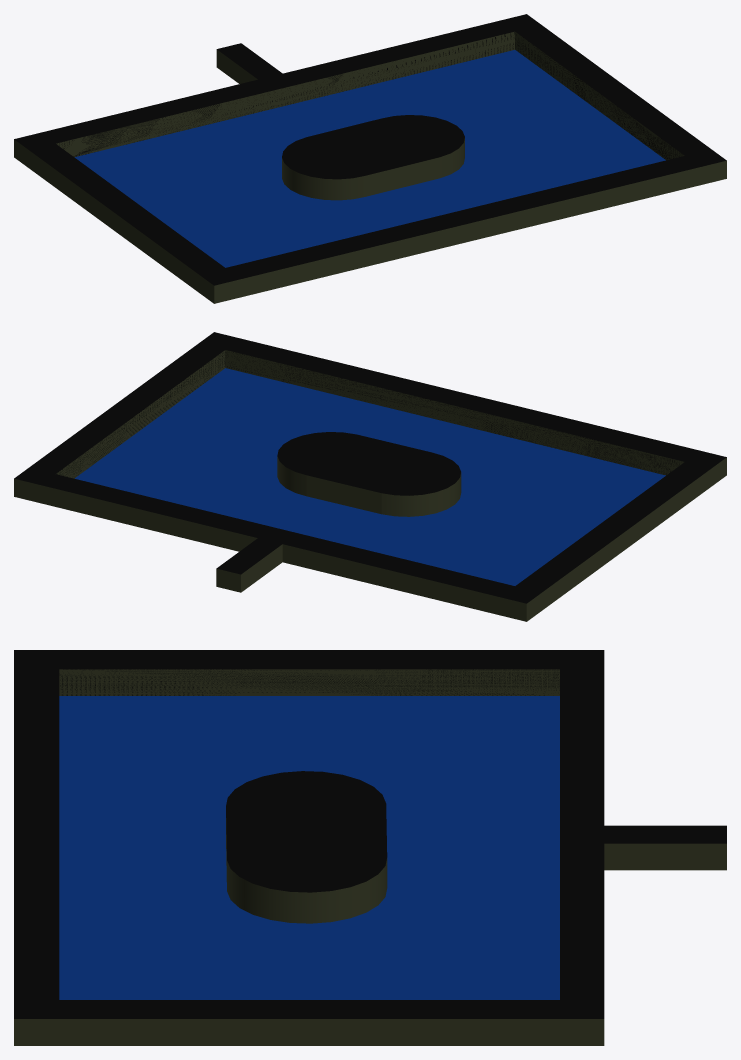
File: ORBAT_ORBAT_I_REGT.dae
3 renders of one model, top to bottom at view 1: azimuth 30°, elevation 25°; view 2: azimuth 150°, elevation 25°; view 3: azimuth 270°, elevation 25°, orthographic. The views are drawn at different scales.
Parts seen in each view (by area): view 1: SketchUp (×6); view 2: SketchUp (×6); view 3: SketchUp (×6).
Part boxes in pixels (bbox=[...]): SketchUp (×6): bbox=[14, 14, 726, 303]; SketchUp (×6): bbox=[14, 332, 726, 621]; SketchUp (×6): bbox=[14, 650, 726, 1045].
Bounding box in the file's own units: 44.14 × 36.05 × 1.73.
